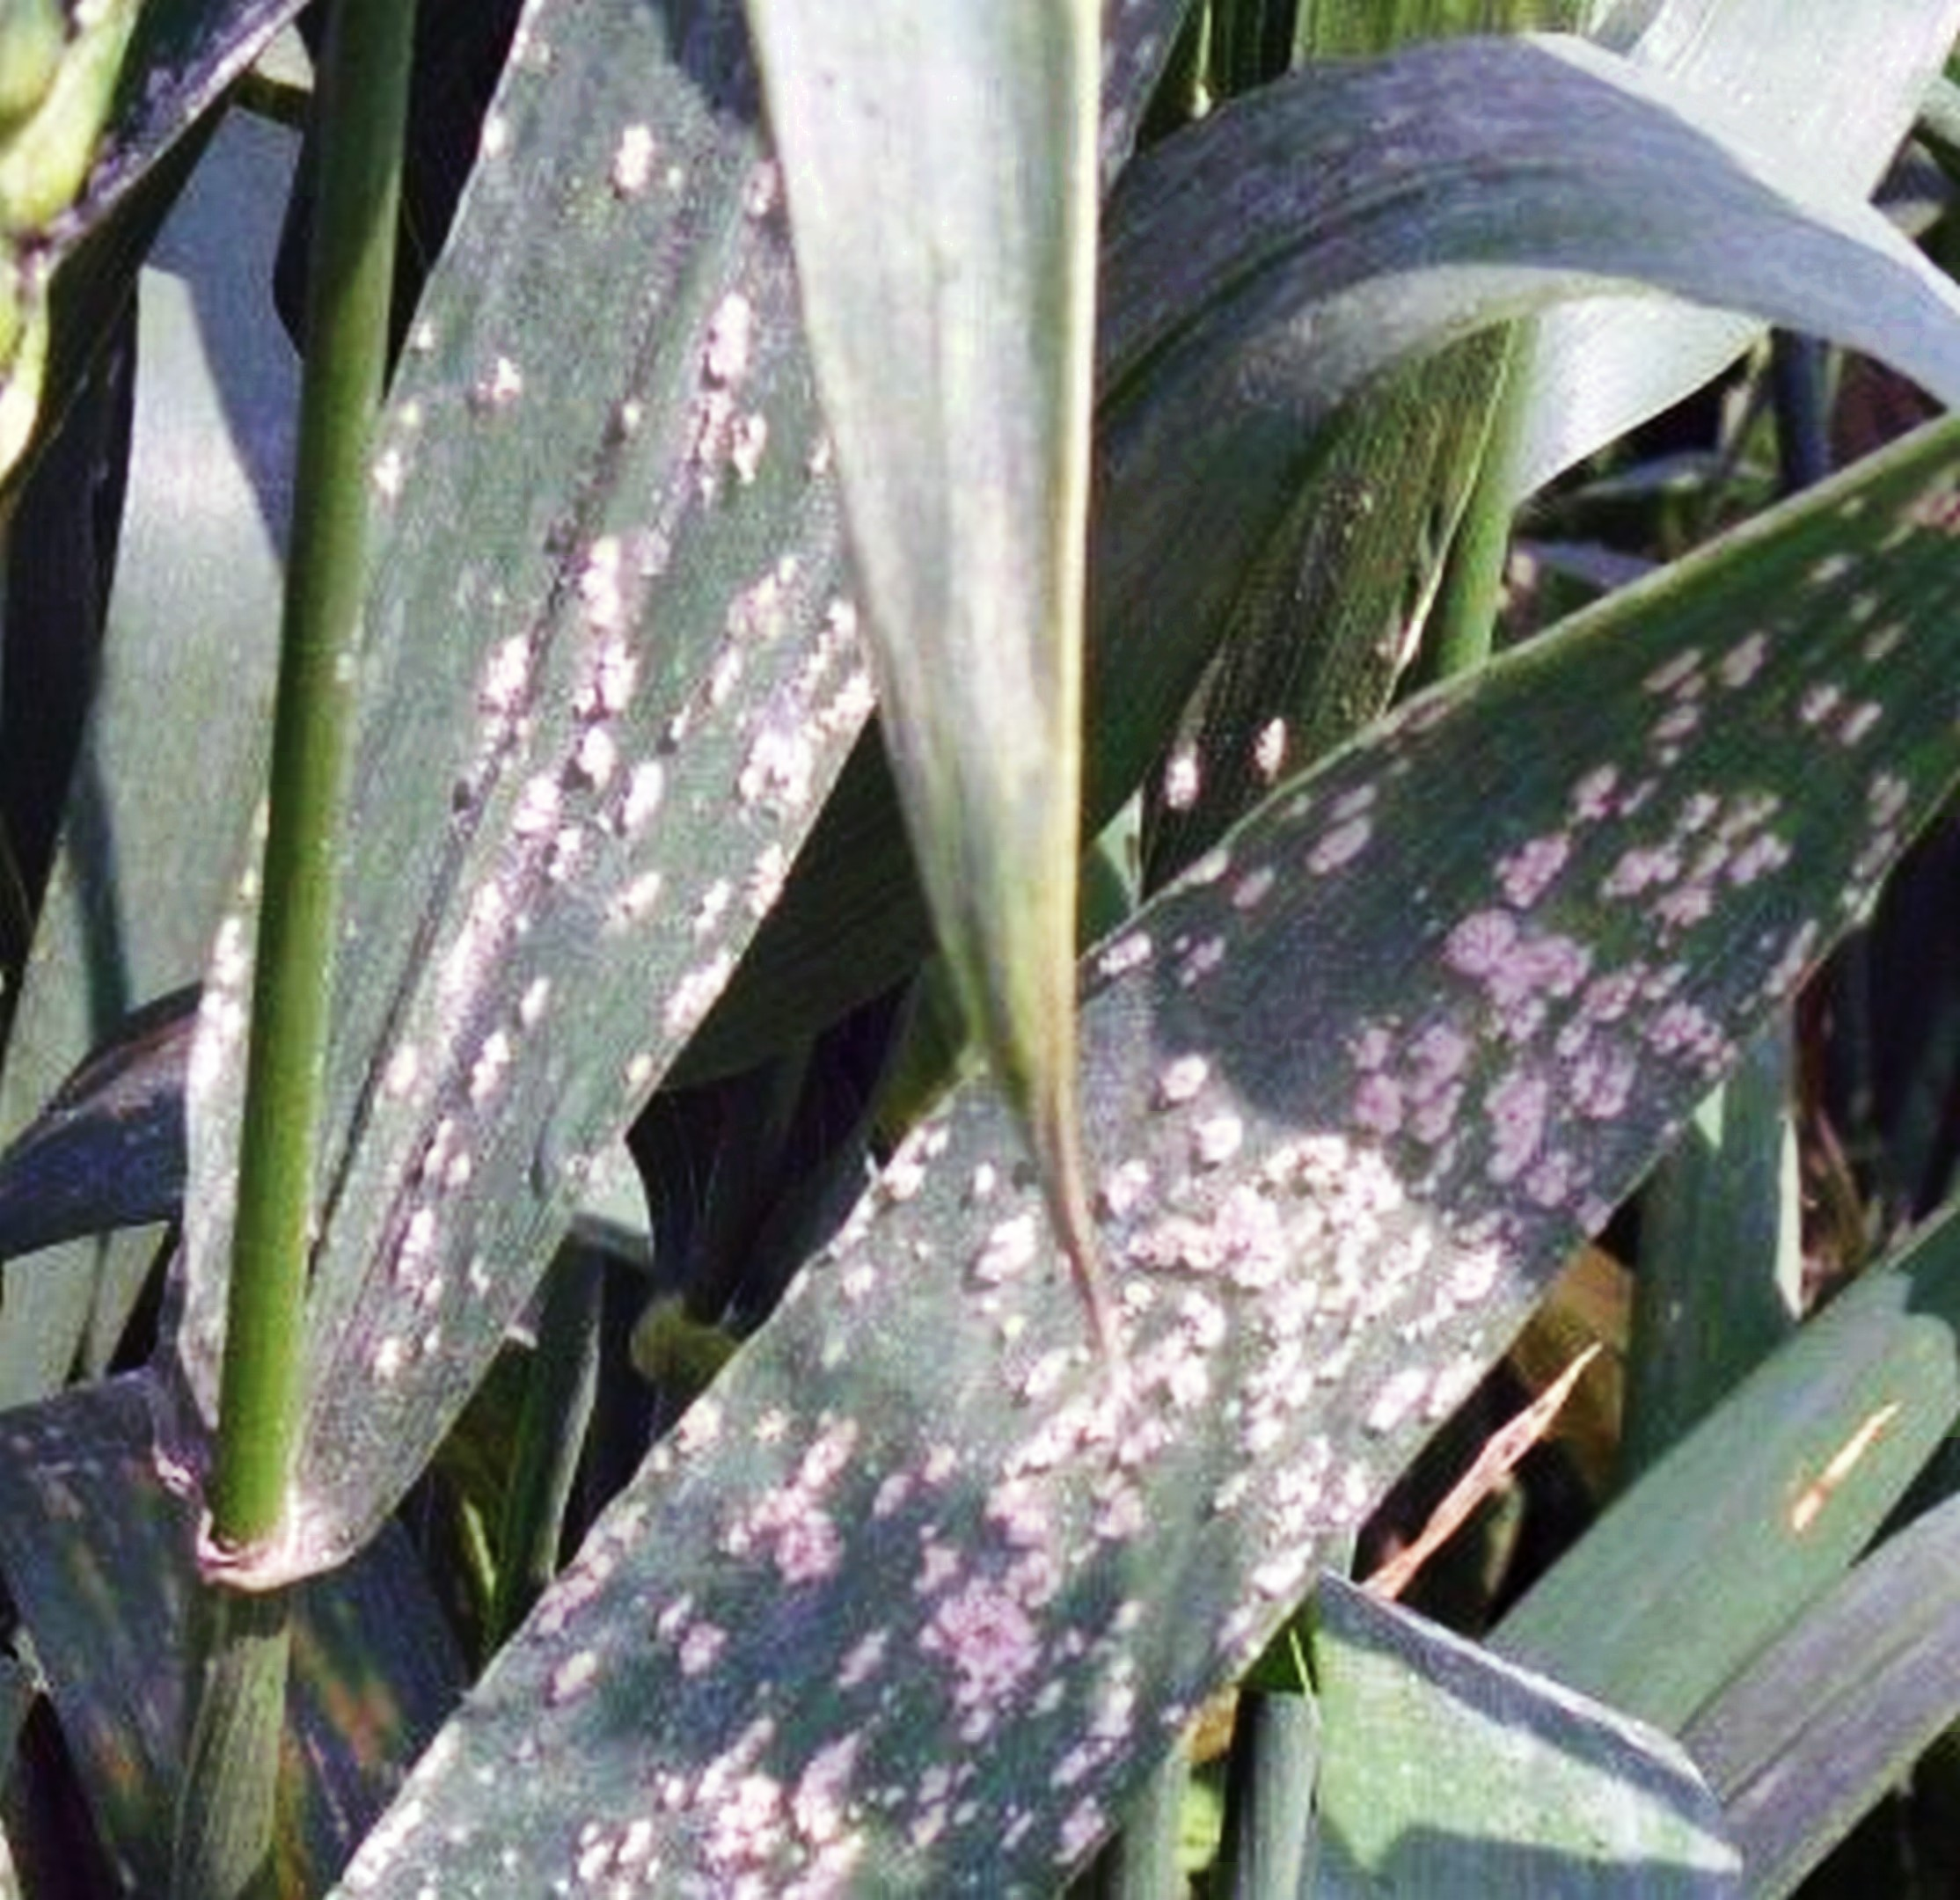Powdery Mildew: (698, 747, 1830, 1849)
